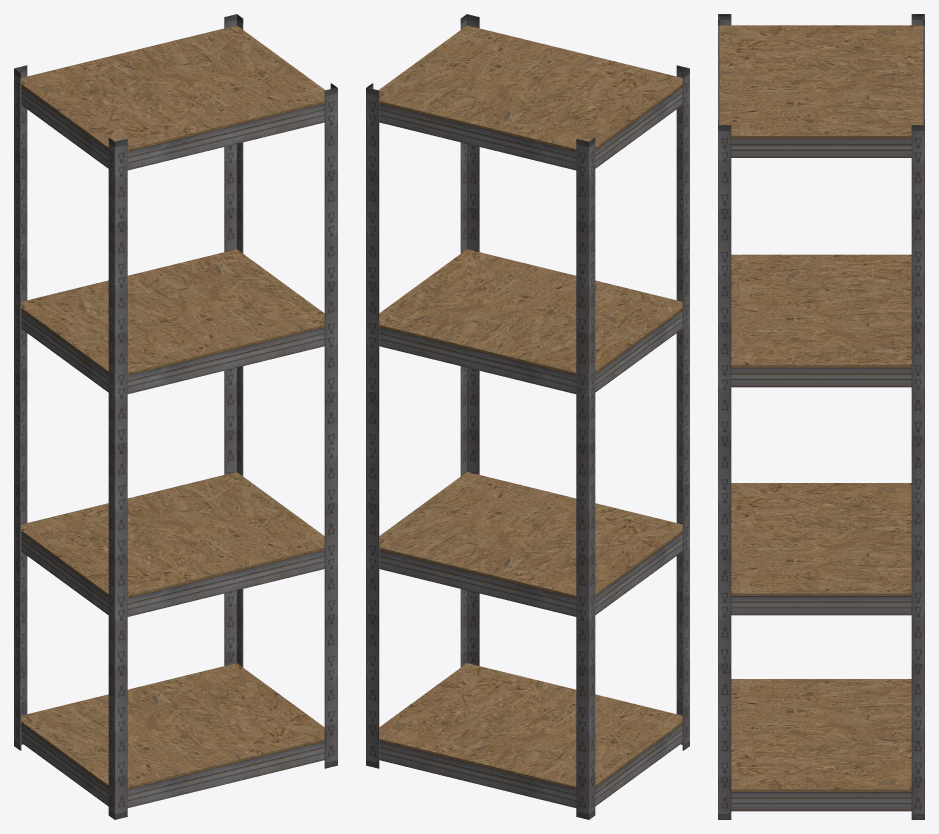
Rendered from ms_metal_shelf_small.fbx.
3 views of the same model, side by side, from view 1: azimuth 30°, elevation 25°; view 2: azimuth 150°, elevation 25°; view 3: azimuth 270°, elevation 25° (orthographic). The views are drawn at different scales.
Parts seen in each view (by area): view 1: ms_metal_shelf_small; view 2: ms_metal_shelf_small; view 3: ms_metal_shelf_small.
Boxes of the visible parts, x1,y1,x2,y2 form: ms_metal_shelf_small: (14,14,337,819); ms_metal_shelf_small: (366,14,689,819); ms_metal_shelf_small: (718,14,924,819).
Bounding box in the file's own units: 67.32 × 195 × 52.73.
